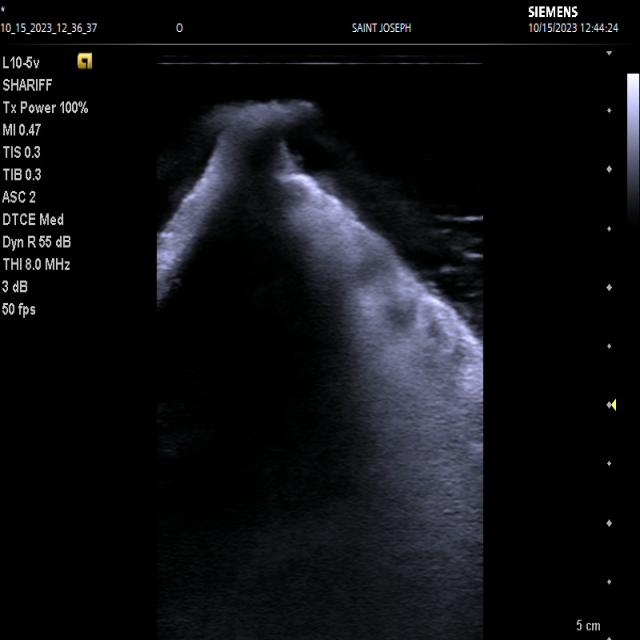tissue: (154, 105, 483, 640)
